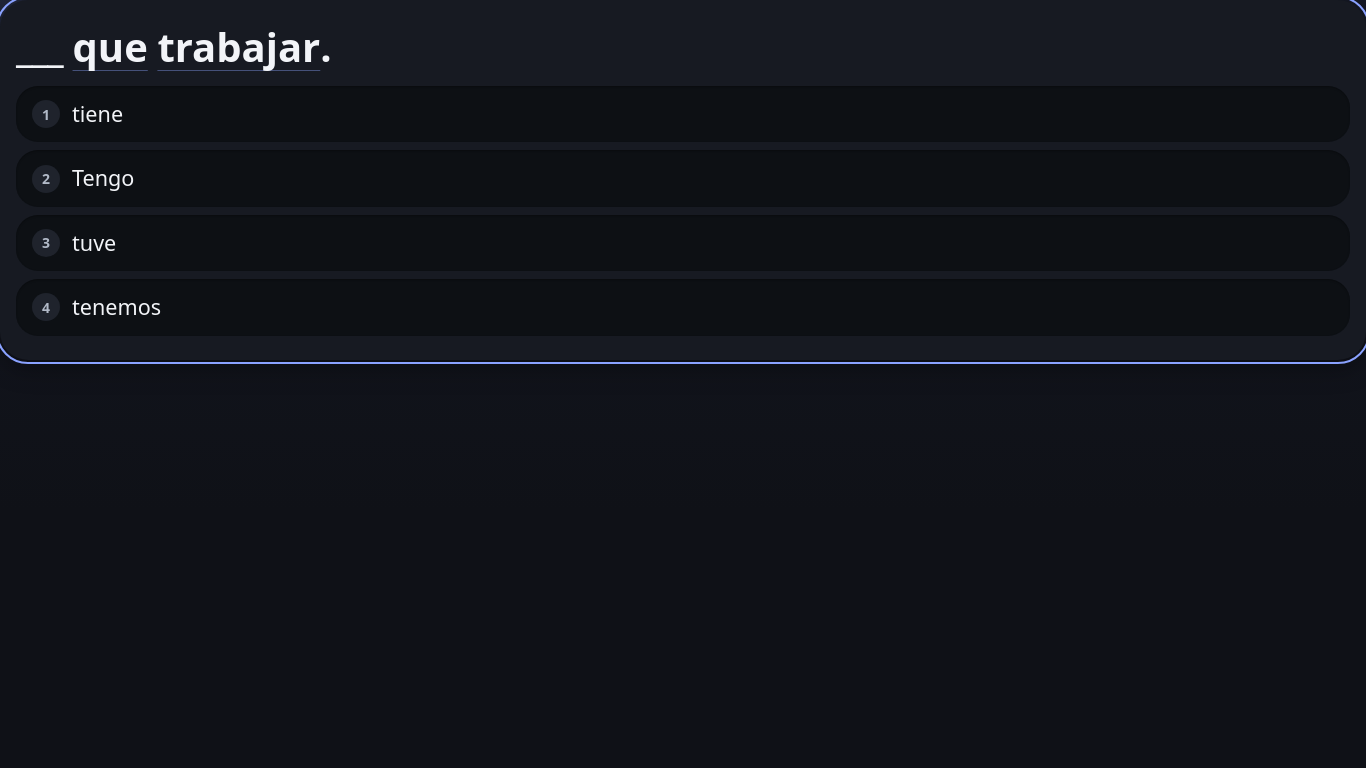
Test: a cloze question › lets the words around the gap be opened while the question is live
Step 1. Click the button with aria-label "About “que”" → [110, 47], box [72, 24, 148, 70]
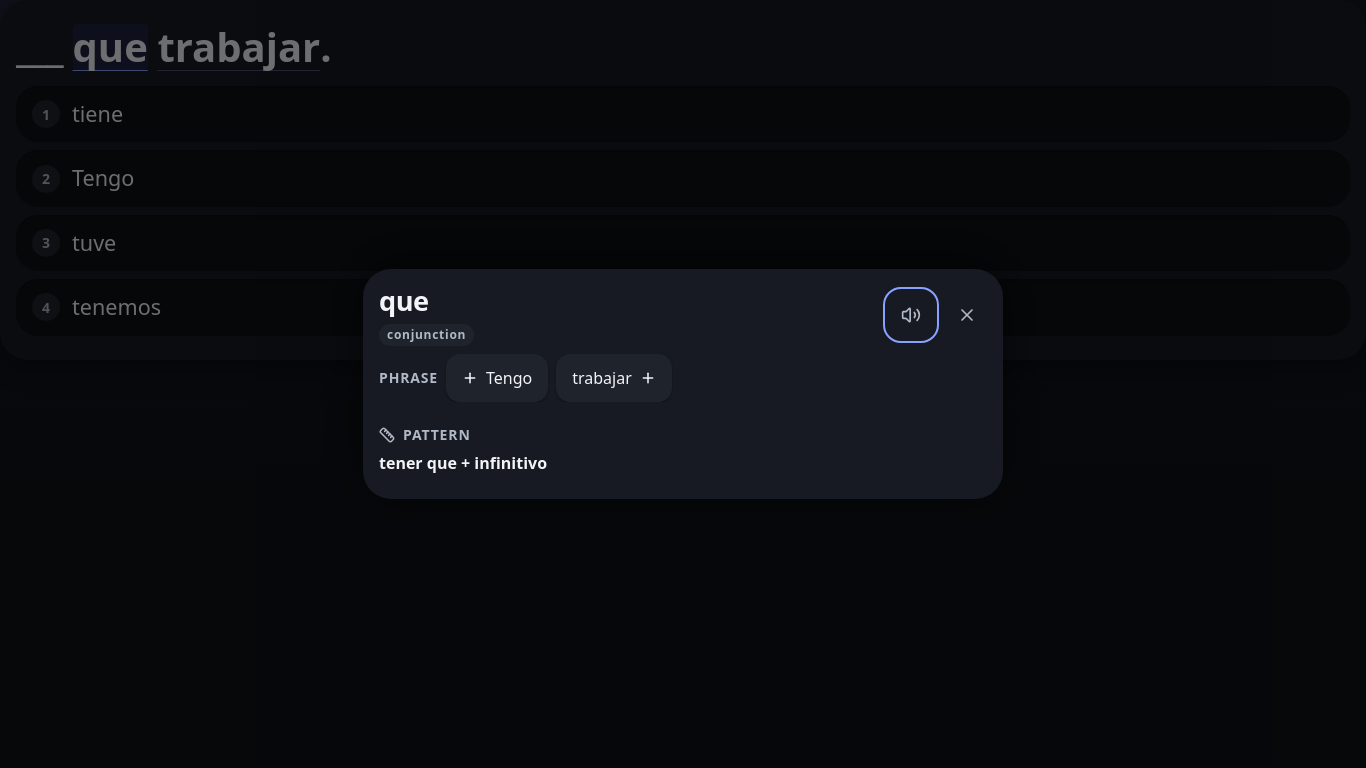
Expected: the dialog named "About que" is shown, [363, 269, 1003, 499]
